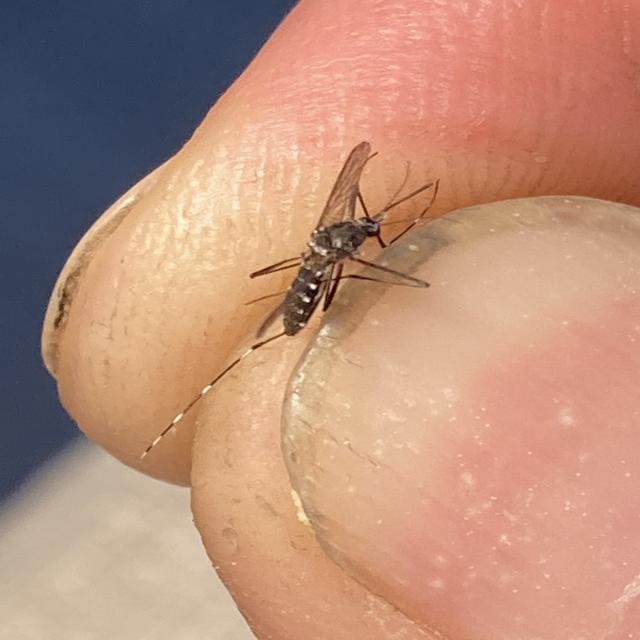albopictus: (236, 134, 447, 339)
